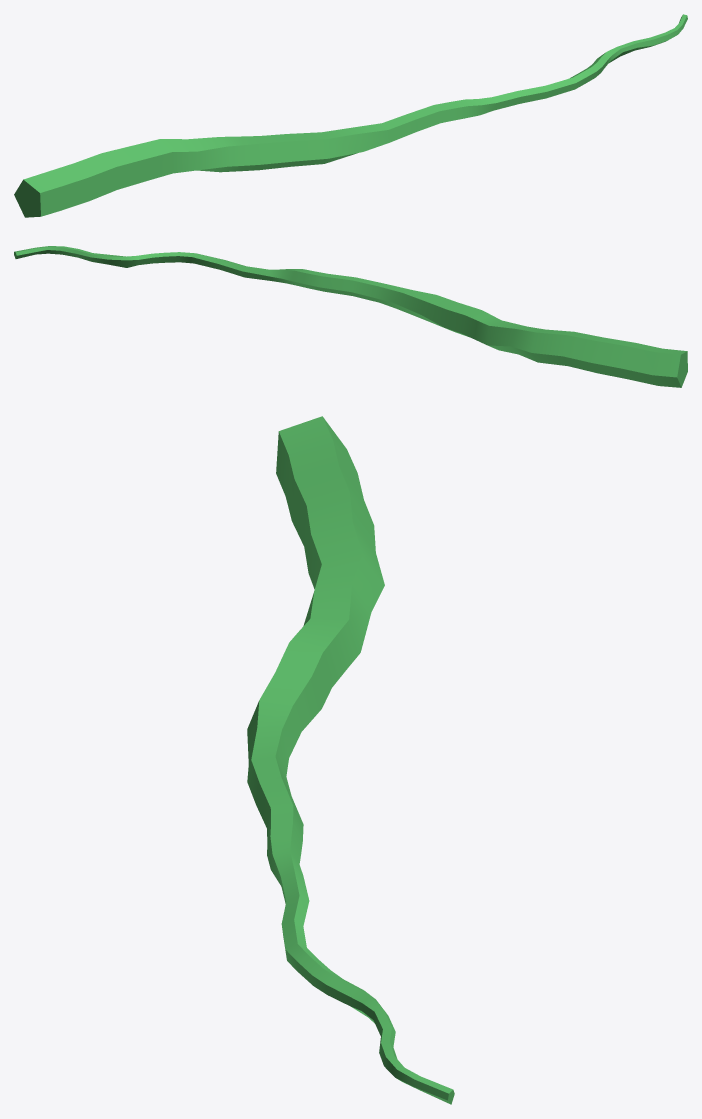
File: roots_solo_A_D.fbx
The picture shows the model from 3 angles, top to bottom: view 1: azimuth 30°, elevation 25°; view 2: azimuth 150°, elevation 25°; view 3: azimuth 270°, elevation 25°; orthographic projection. The views are drawn at different scales.
Parts seen in each view (by area): view 1: roots_solo_A_D; view 2: roots_solo_A_D; view 3: roots_solo_A_D.
Part boxes in pixels (box(x1,y1,x2,y2)): roots_solo_A_D: box(14, 14, 687, 217); roots_solo_A_D: box(14, 246, 687, 387); roots_solo_A_D: box(247, 416, 454, 1104).
Size of the model in its own units: 373 by 22.8 by 52.63.
